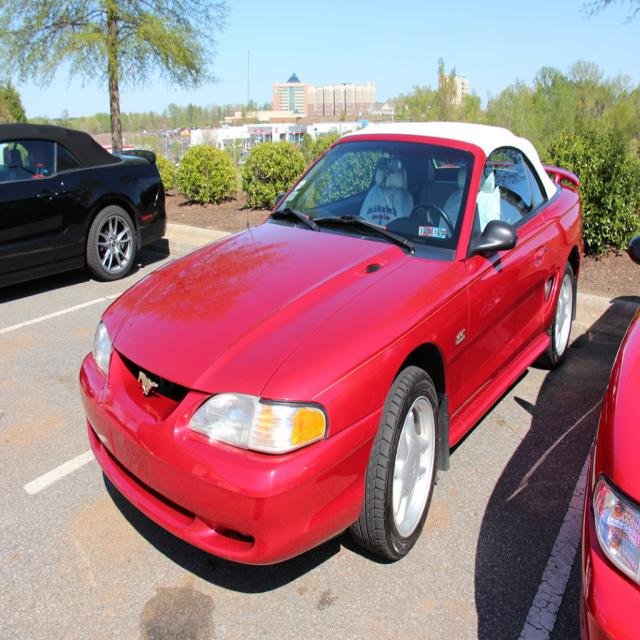car: (79, 119, 588, 564)
